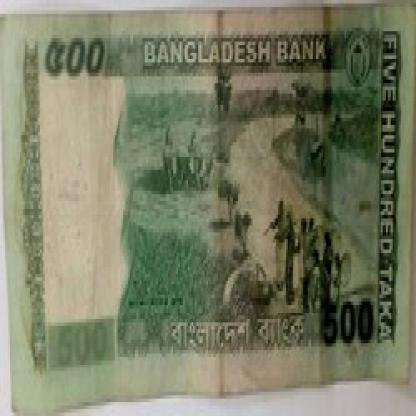500 taka: (32, 24, 122, 90)
currency: (1, 21, 413, 388)
